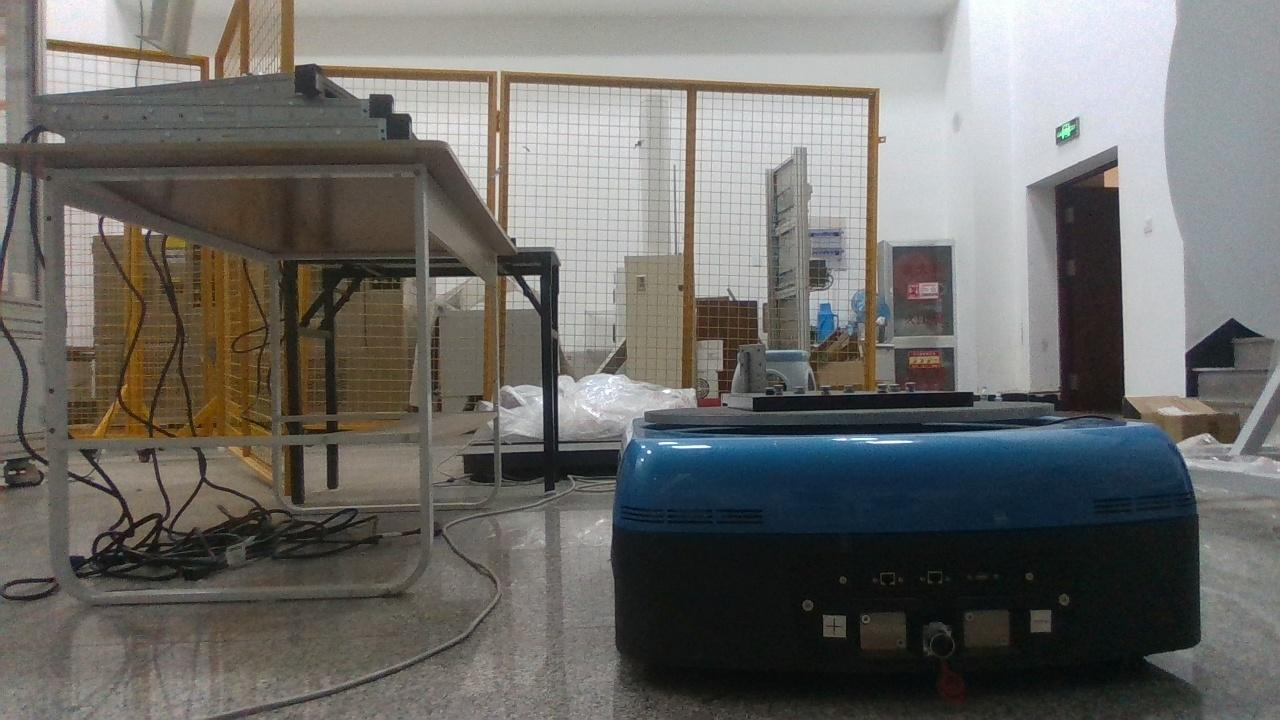AGV: (611, 392, 1202, 702)
